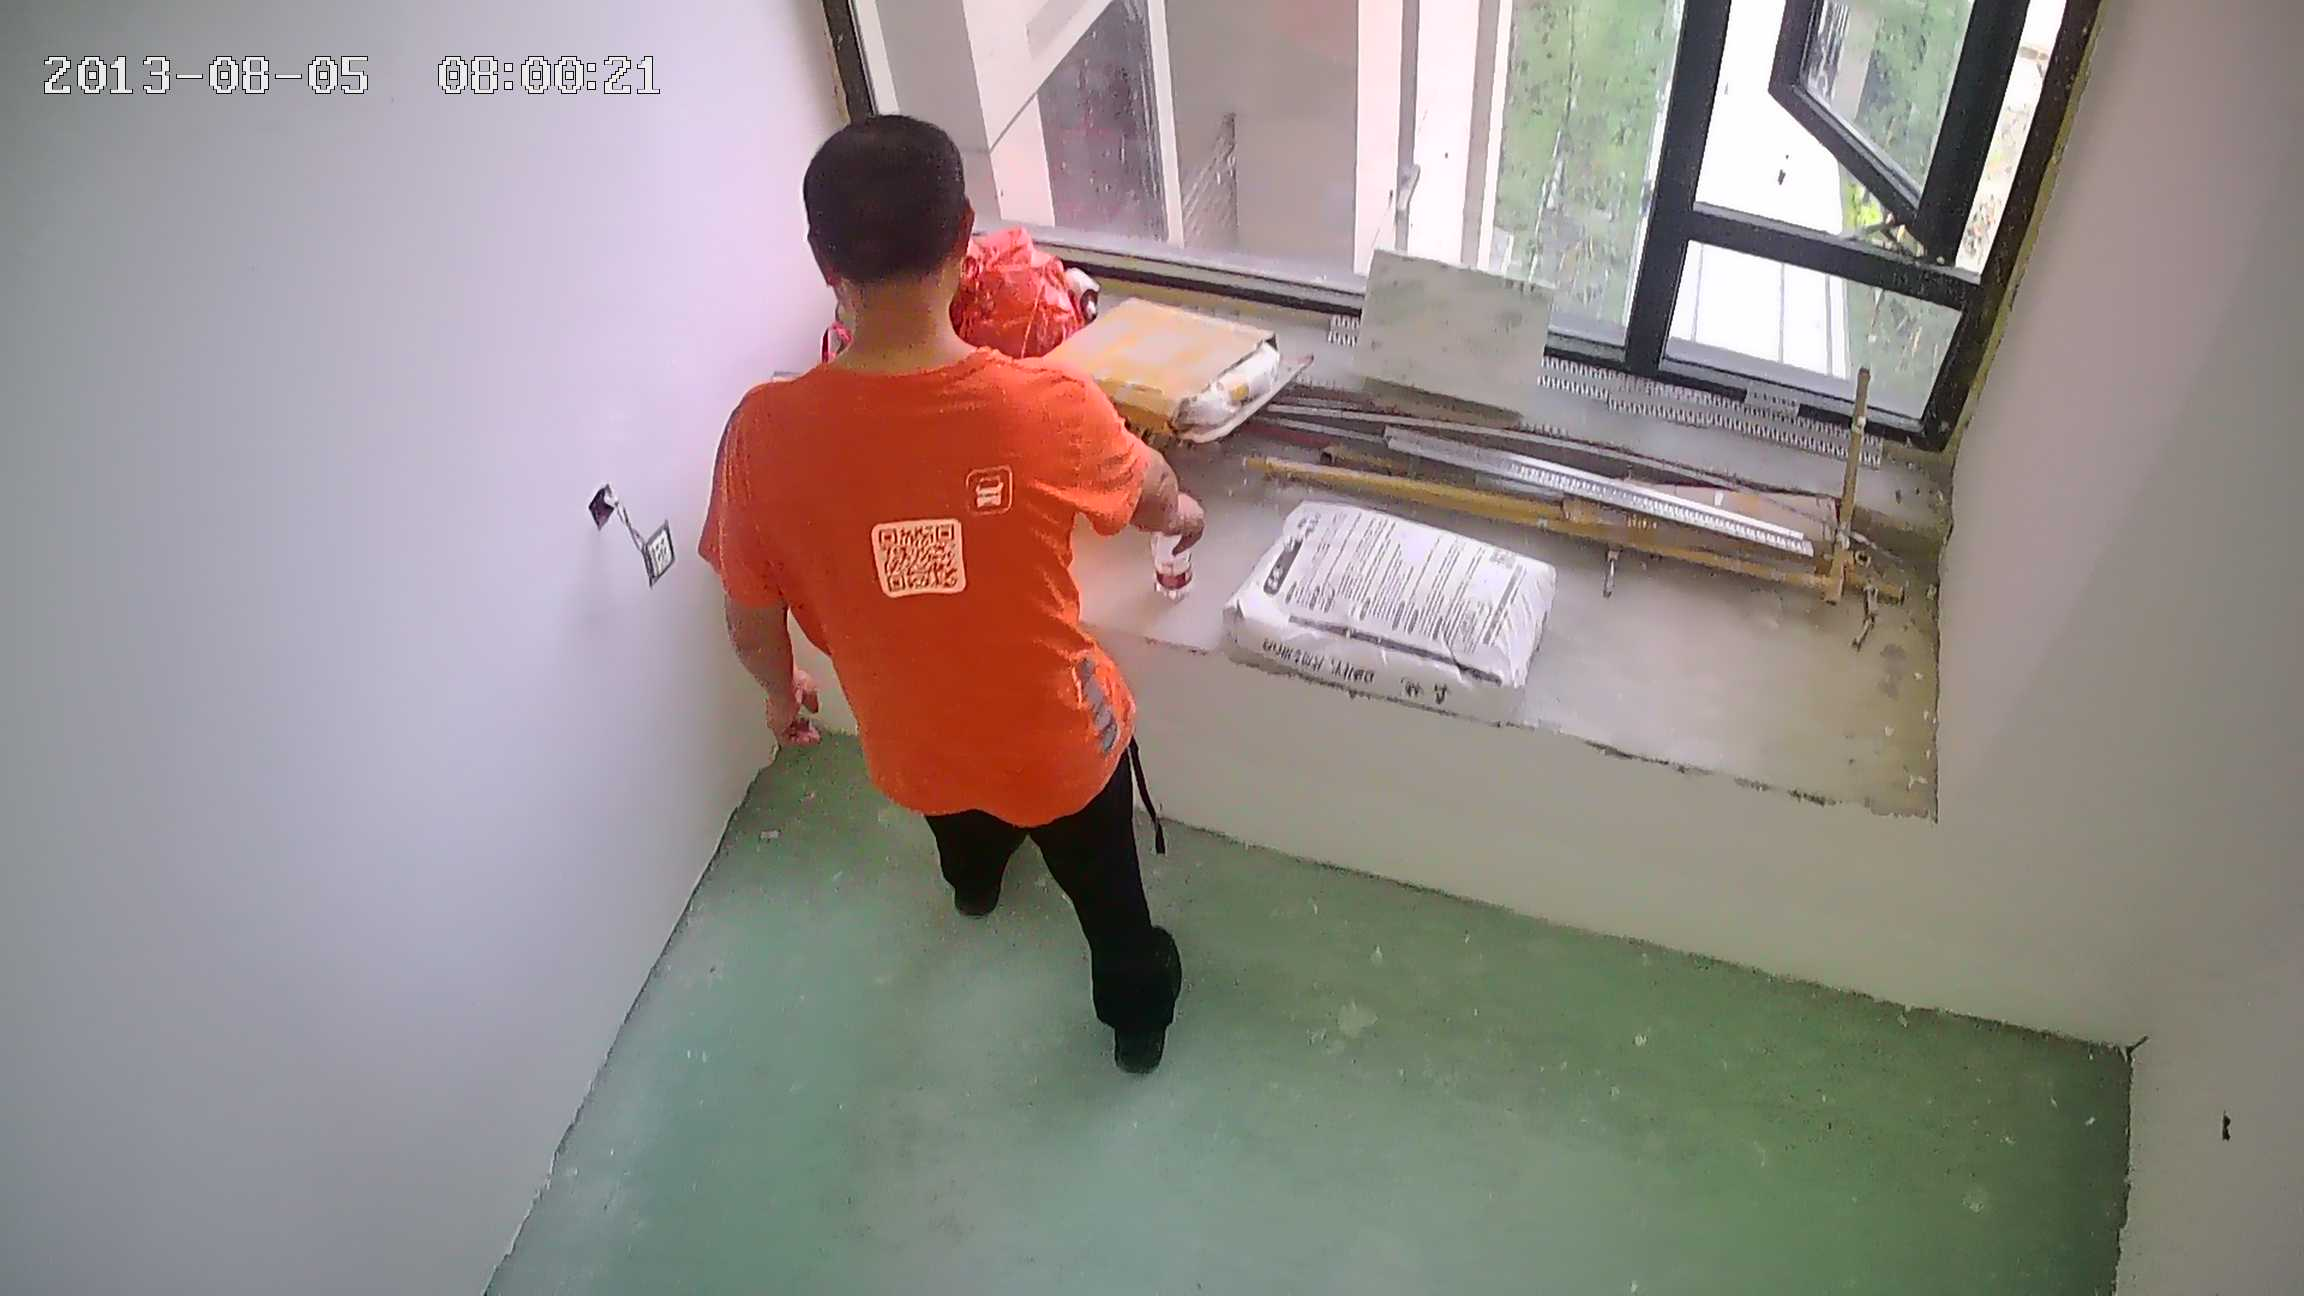people: (696, 107, 1214, 1088)
window: (849, 1, 2037, 423)
